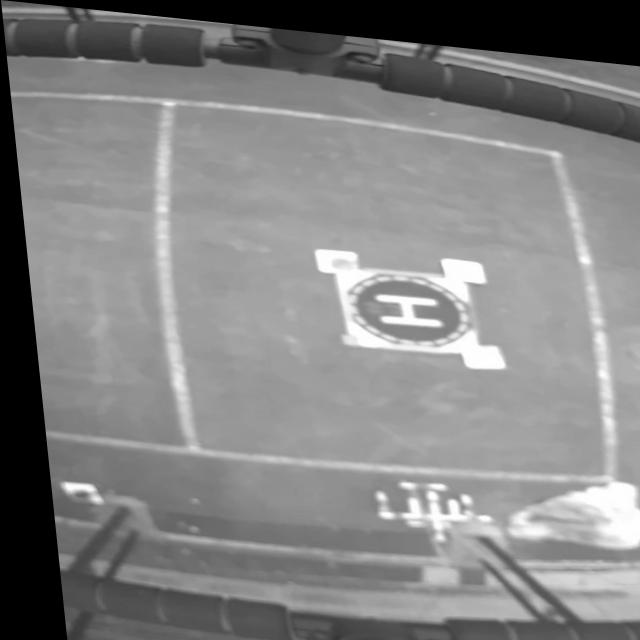Helipad: (367, 287, 437, 319)
